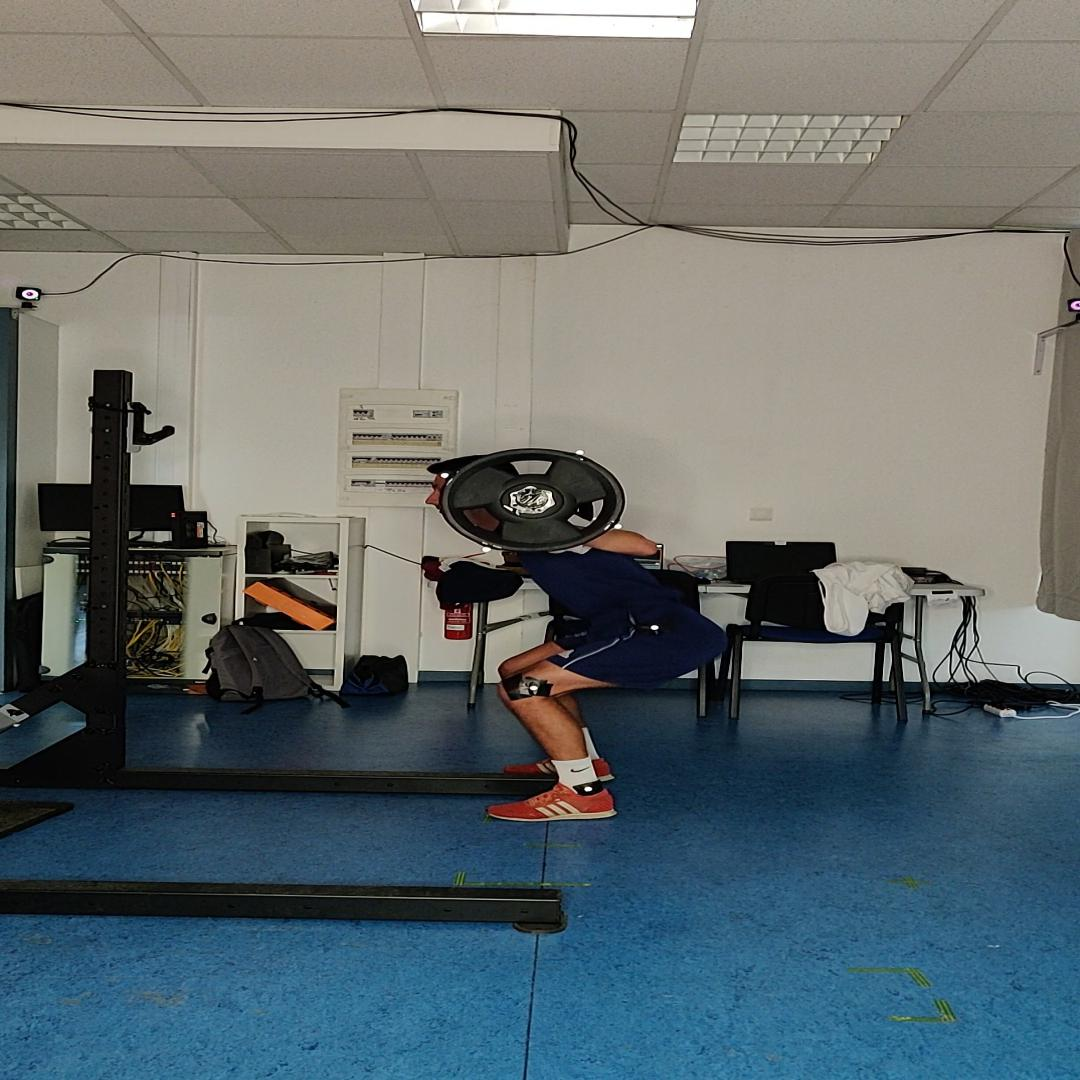Bar: (516, 488, 548, 507)
Barbell: (440, 448, 625, 553)
